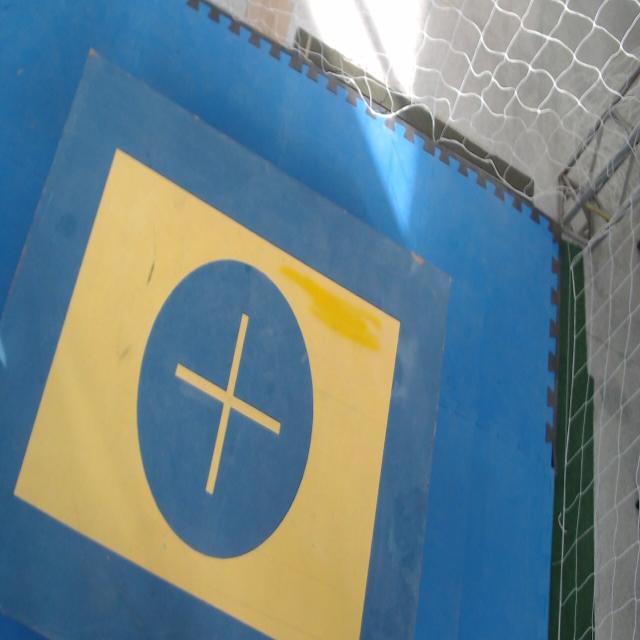base_inicio: (14, 152, 401, 639)
